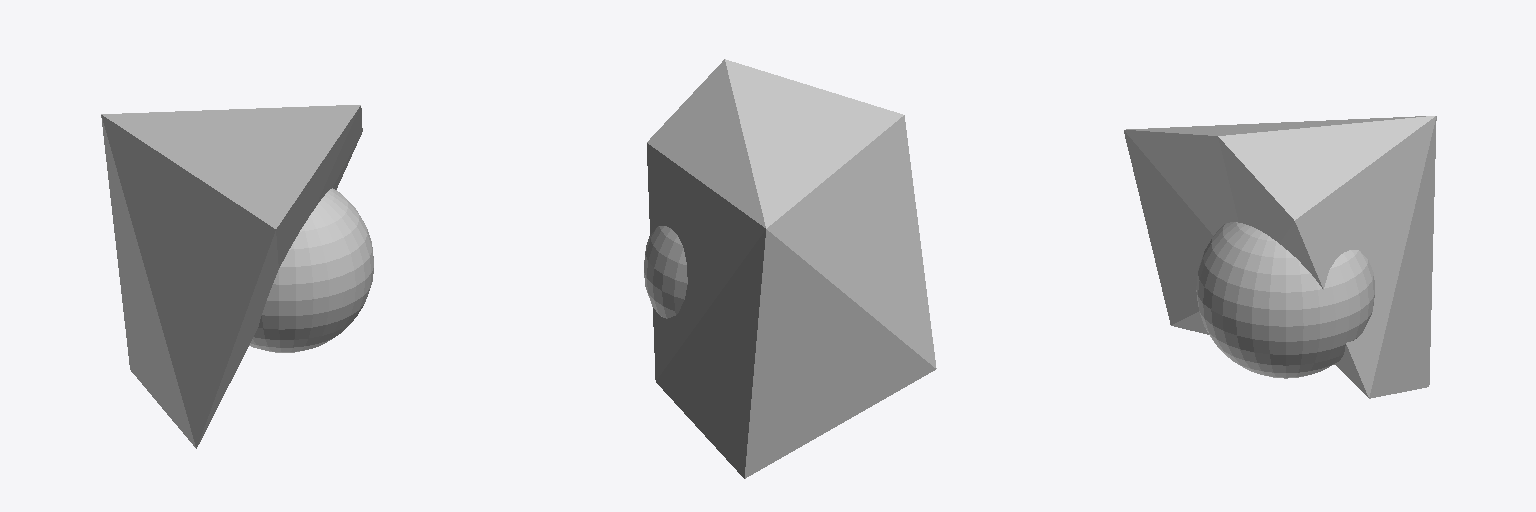
File: fubuki2.obj
3 views of the same model, side by side, from view 1: azimuth 30°, elevation 25°; view 2: azimuth 150°, elevation 25°; view 3: azimuth 270°, elevation 25° (orthographic).
Visible parts, largest first — view 1: Cube, 球体; view 2: Cube, 球体; view 3: Cube, 球体.
Part boxes in pixels (left/top/right/bottom): Cube: left=101, top=105, right=362, bottom=448; 球体: left=249, top=188, right=373, bottom=352; Cube: left=647, top=59, right=936, bottom=478; 球体: left=644, top=226, right=687, bottom=318; Cube: left=1124, top=116, right=1436, bottom=398; 球体: left=1196, top=222, right=1374, bottom=378.
Size of the model in its own units: 2.93 by 3.83 by 3.49.